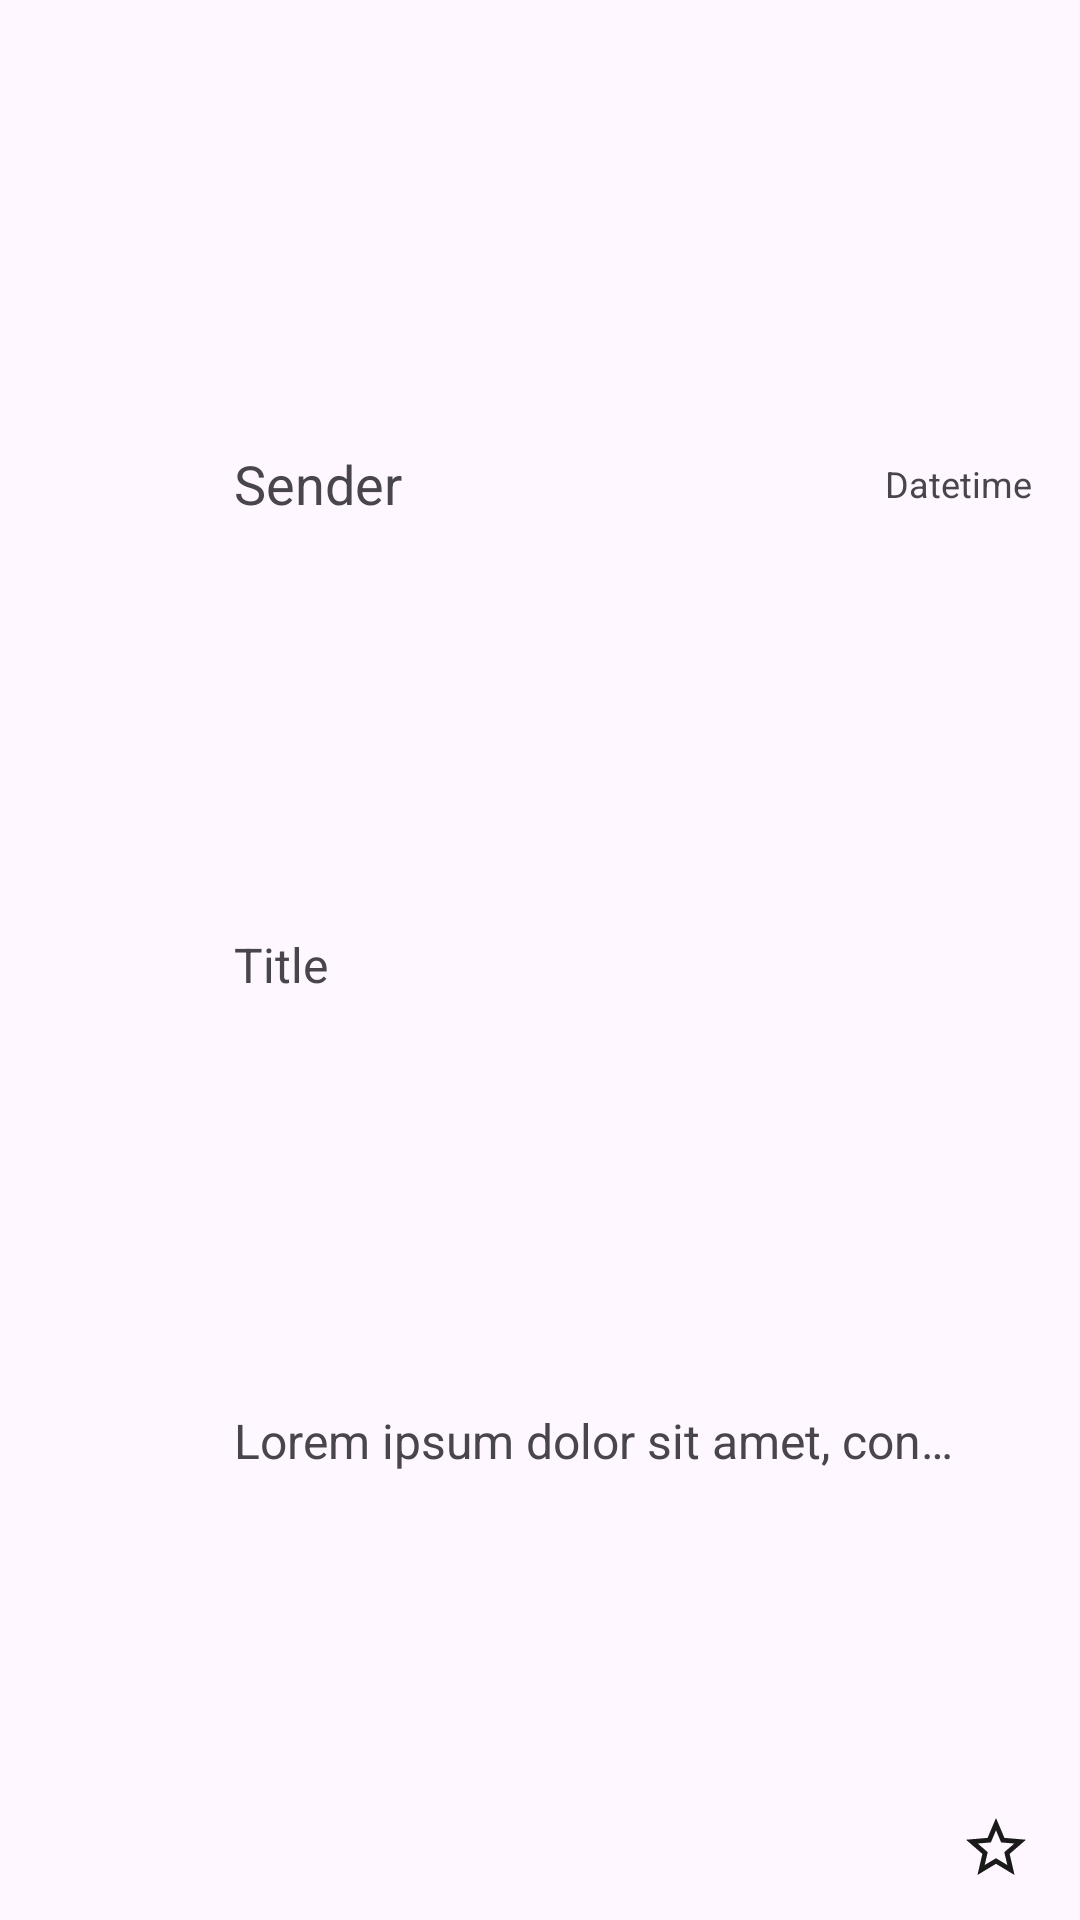

Icon click points for this 1080w x 1920h phone screenshot, format point (x, y):
star border: point (996, 1846)
